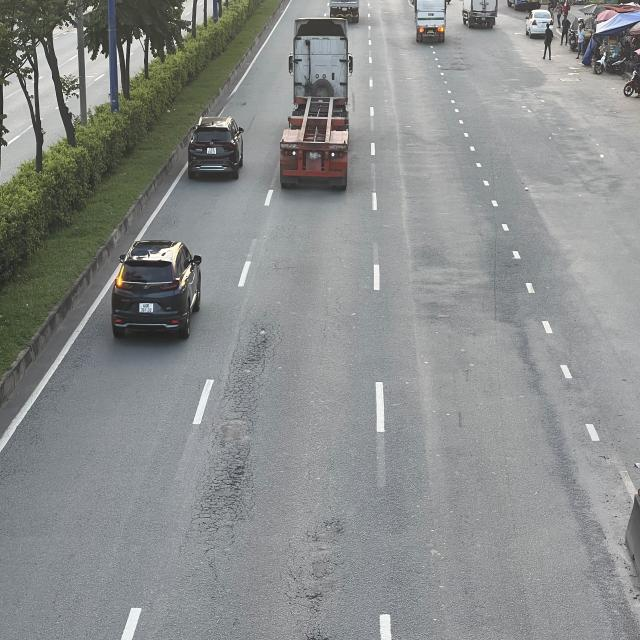car: (112, 239, 202, 341), (188, 115, 245, 182), (525, 8, 554, 36)
container: (278, 17, 355, 189)
truck: (414, 0, 447, 46), (461, 0, 498, 29)
